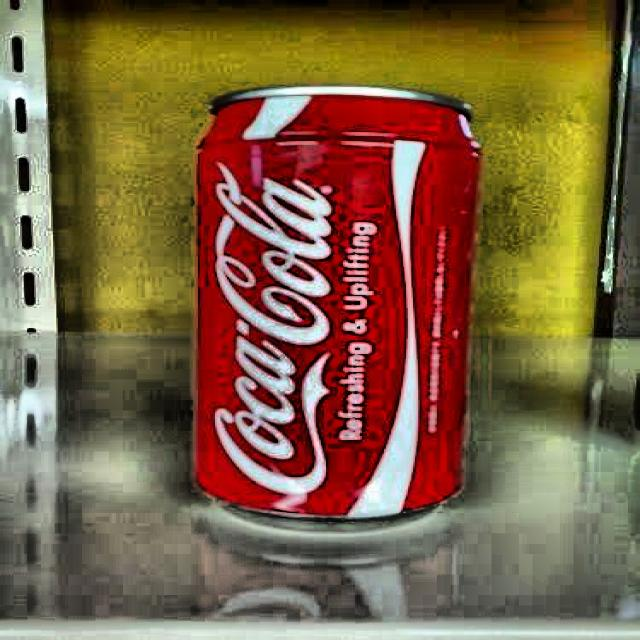Cans: (191, 96, 485, 554)
